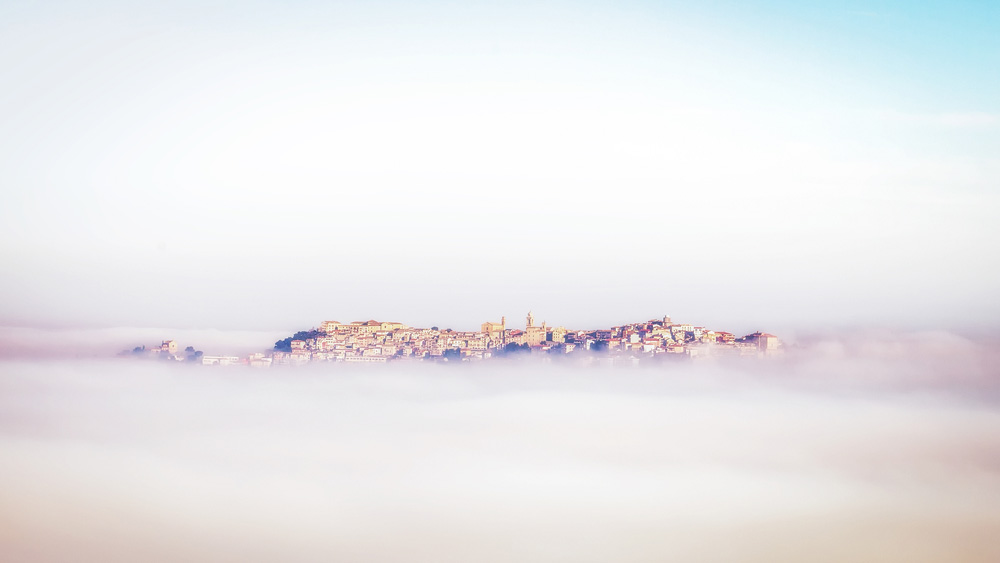Stratus: (9, 7, 1000, 313), (13, 353, 1000, 557)
